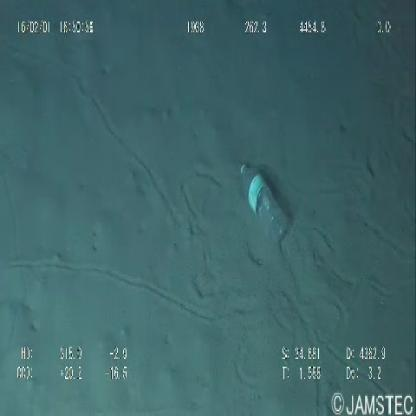Rác: (231, 152, 308, 256)
